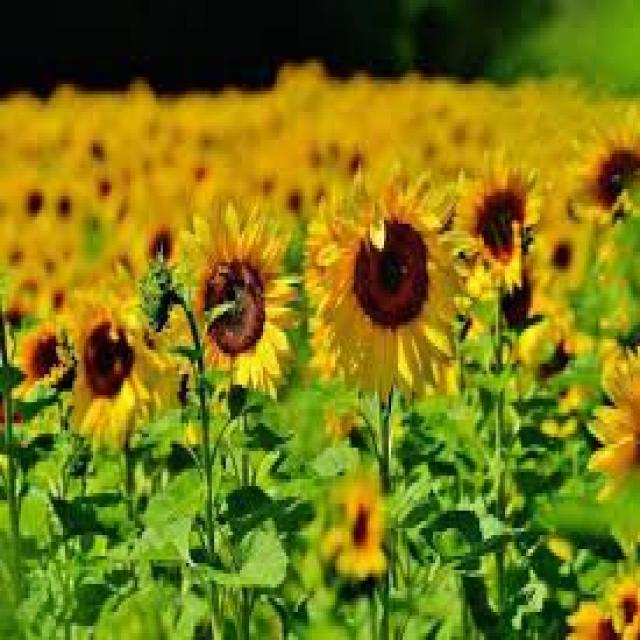sunflower: (300, 151, 472, 415), (173, 199, 298, 396), (69, 278, 183, 454), (447, 147, 556, 294)
